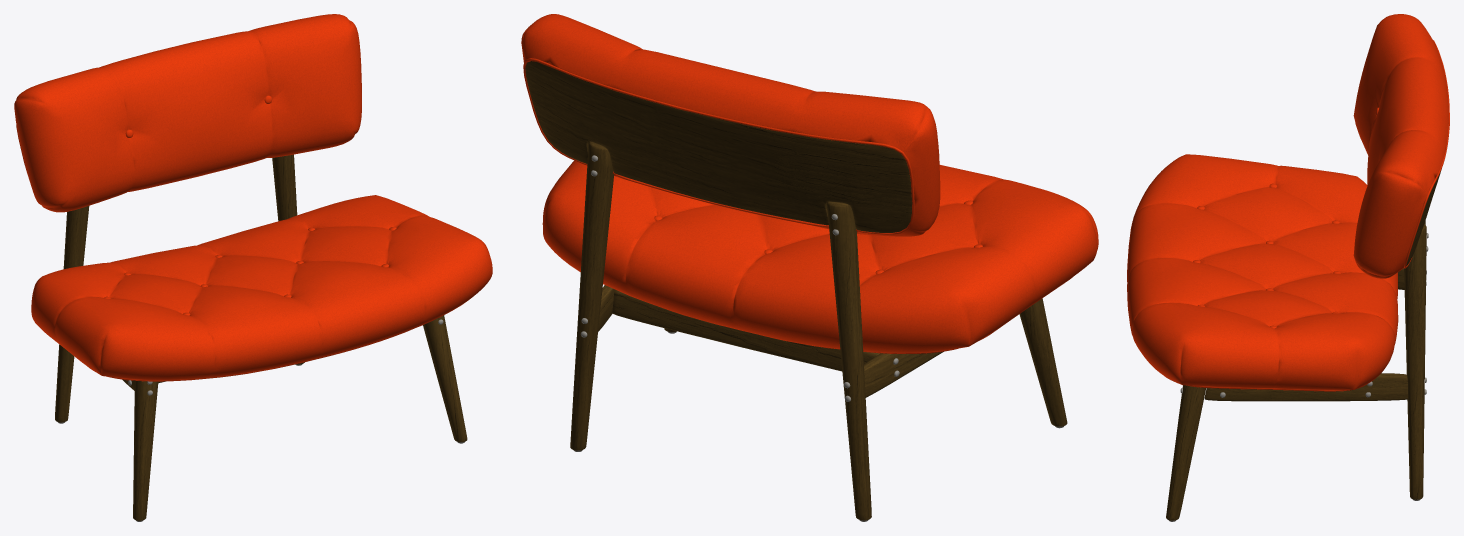
Rendered from sessel.glb.
3 renders of one model, left to right at view 1: azimuth 30°, elevation 25°; view 2: azimuth 150°, elevation 25°; view 3: azimuth 270°, elevation 25°, orthographic. The views are drawn at different scales.
Visible parts, largest first — view 1: SheenChair_fabric, SheenChair_wood; view 2: SheenChair_fabric, SheenChair_wood; view 3: SheenChair_fabric, SheenChair_wood.
Boxes of the visible parts, <box> form: SheenChair_fabric: <box>14,14,492,381</box>; SheenChair_wood: <box>55,154,467,520</box>; SheenChair_fabric: <box>521,14,1098,353</box>; SheenChair_wood: <box>525,61,1067,520</box>; SheenChair_fabric: <box>1127,14,1449,391</box>; SheenChair_wood: <box>1166,169,1441,520</box>.
Size of the model in its own units: 0.8266 by 0.6861 by 0.5699.
4 materials, 3 textured.
